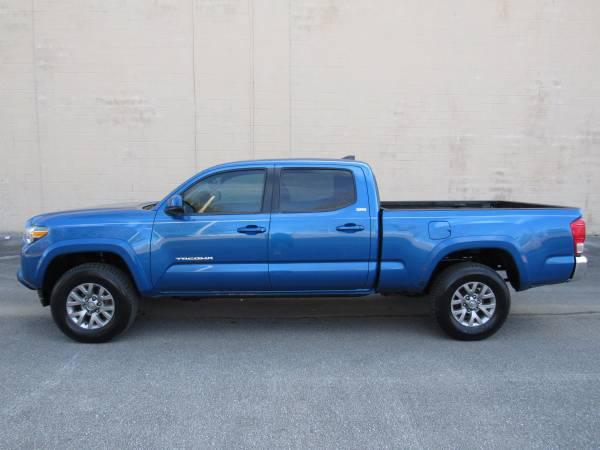Front_Bumper: (15, 244, 48, 295)
Front_Fender: (29, 205, 154, 292)
Front_Left_Door: (150, 213, 271, 297)
Front_Left_Window: (154, 162, 274, 215)
Left_Headlight: (26, 224, 49, 242)
Left_Taillight: (570, 217, 585, 259)
Rear_Bumper: (569, 255, 586, 279)
Rear_Fender: (376, 206, 581, 293)
Rear_Left_Door: (268, 209, 379, 295)
Rear_Left_Window: (268, 159, 377, 214)
Wheel: (48, 259, 134, 340), (430, 262, 511, 341)
